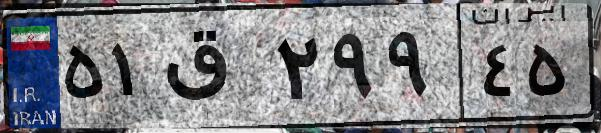1: (110, 28, 158, 98)
2: (270, 28, 330, 110)
4: (475, 38, 525, 113)
5: (57, 26, 110, 100), (525, 38, 570, 115)
9: (385, 28, 445, 110), (330, 28, 385, 110)
ق: (158, 20, 270, 120)
